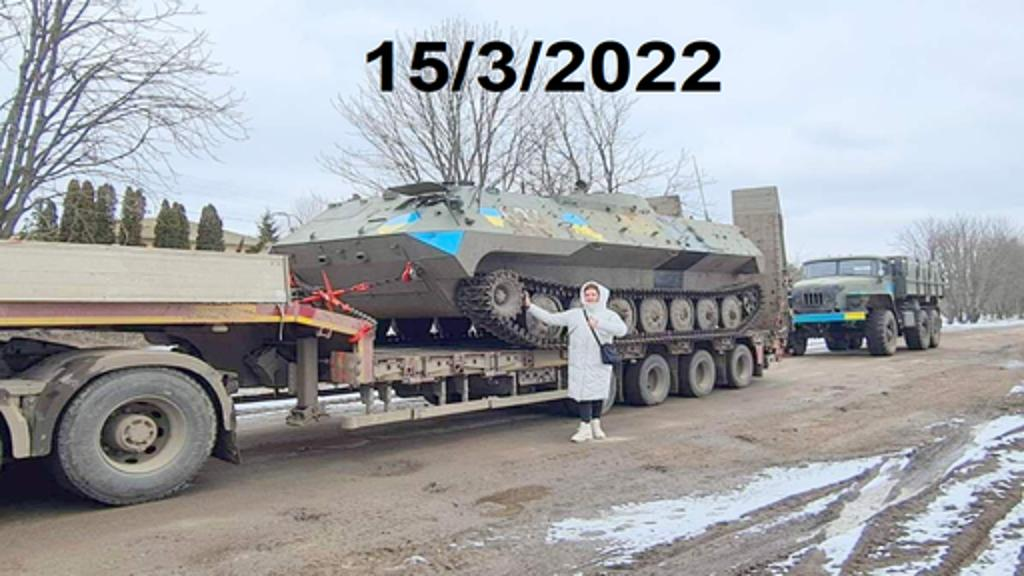APC-IFV: (266, 158, 756, 334)
TRUCK: (786, 236, 942, 358)
